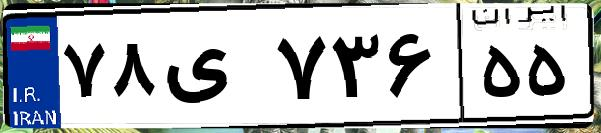3: (330, 28, 385, 110)
5: (475, 38, 525, 113), (525, 38, 570, 115)
6: (385, 28, 445, 110)
7: (270, 28, 330, 110), (57, 26, 110, 100)
8: (110, 28, 158, 98)
ی: (158, 20, 270, 120)
